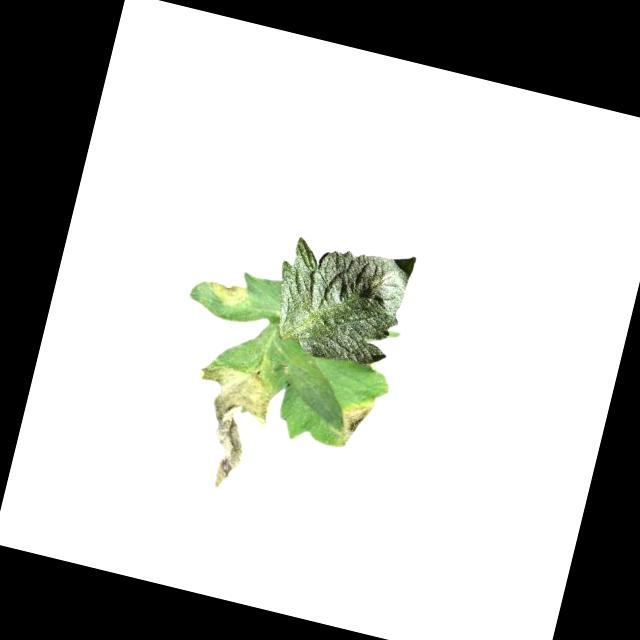Late_blight: (171, 357, 278, 499), (328, 393, 377, 452), (204, 272, 254, 314)
healthy: (262, 225, 417, 375)
